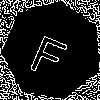F: (27, 26, 73, 80)
